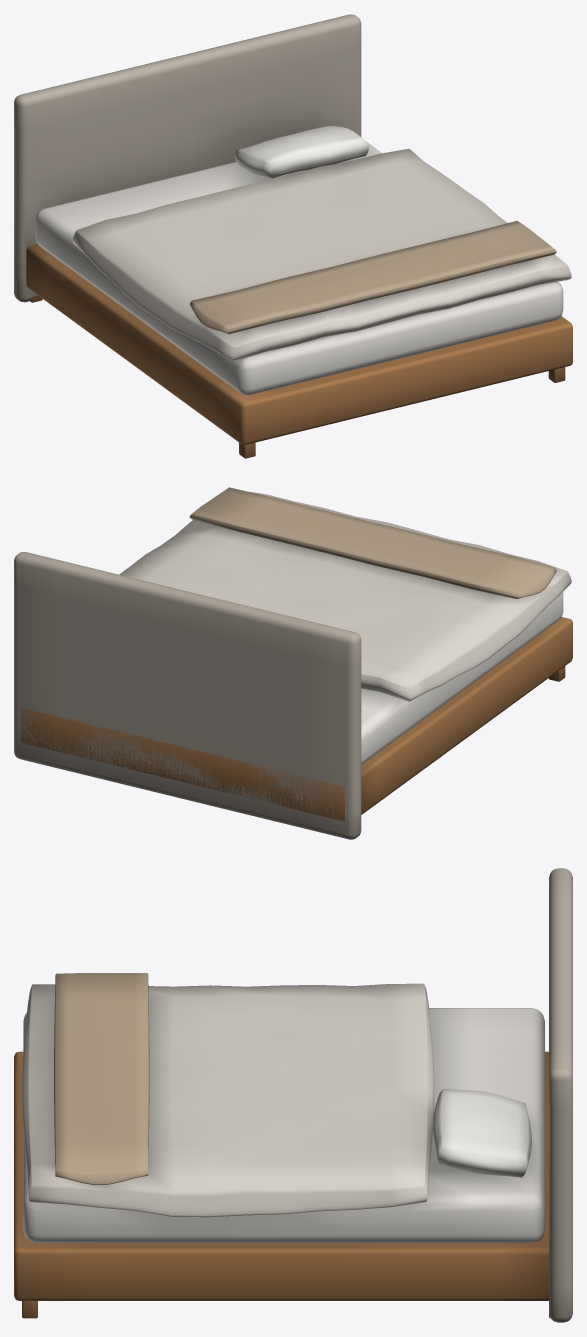
Rendered from lit180.glb.
The picture shows the model from 3 angles, top to bottom: view 1: azimuth 30°, elevation 25°; view 2: azimuth 150°, elevation 25°; view 3: azimuth 270°, elevation 25°; orthographic projection. The views are drawn at different scales.
Parts seen in each view (by area): view 1: couette, tete, cadre, matelas, plaid, oreillers; view 2: tete, couette, cadre, plaid, matelas; view 3: couette, cadre, matelas, plaid, tete, oreillers.
Part boxes in pixels (x1,y1,x2,y2): couette: [72, 148, 571, 361]; tete: [14, 14, 361, 302]; cadre: [26, 243, 572, 458]; matelas: [35, 142, 563, 395]; plaid: [189, 221, 556, 334]; oreillers: [234, 125, 368, 178]; tete: [14, 552, 361, 839]; couette: [119, 492, 571, 701]; cadre: [20, 617, 572, 821]; plaid: [189, 487, 556, 598]; matelas: [361, 592, 563, 764]; couette: [22, 983, 434, 1217]; cadre: [14, 1051, 550, 1318]; matelas: [23, 1008, 544, 1243]; plaid: [54, 973, 149, 1185]; tete: [549, 868, 572, 1322]; oreillers: [433, 1088, 531, 1177].
Bounding box in the file's own units: 1.88 × 1.05 × 2.1.
